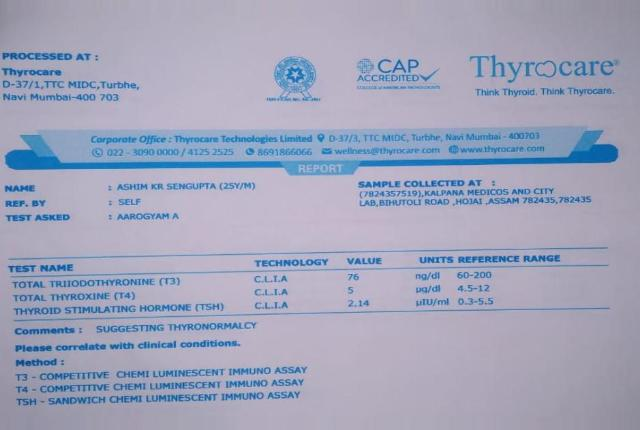Clinical_Conditions: (13, 367, 310, 409)
Name: (116, 177, 259, 194)
Ref_By: (115, 196, 157, 208)
Reference_Range: (456, 269, 498, 311)
Technology: (250, 273, 296, 316)
Test_Asked: (117, 211, 183, 223)
Test_Name: (10, 275, 231, 317)
Unit: (412, 268, 452, 313)
Value: (342, 270, 379, 314)
